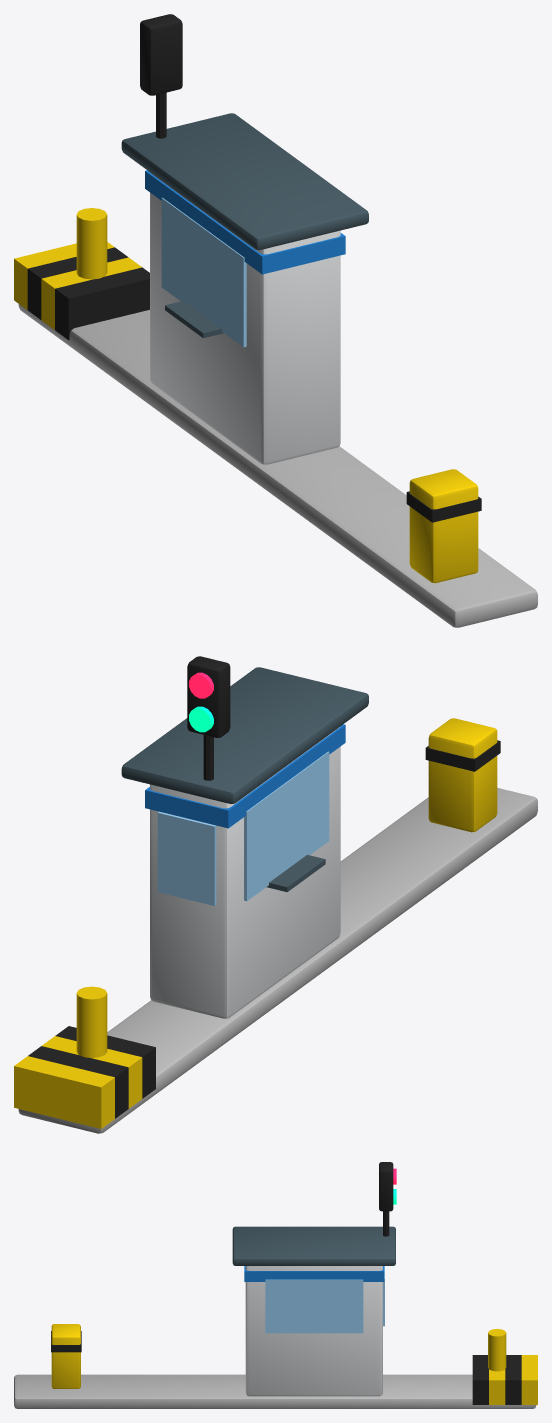
File: roadevents_toll_booth.glb
The picture shows the model from 3 angles, top to bottom: view 1: azimuth 30°, elevation 25°; view 2: azimuth 150°, elevation 25°; view 3: azimuth 270°, elevation 25°; orthographic projection. The views are drawn at different scales.
Parts seen in each view (by area): view 1: TollBooth; view 2: TollBooth; view 3: TollBooth.
Boxes of the visible parts, x1=… form: TollBooth: x1=14, y1=14, x2=537, y2=627; TollBooth: x1=14, y1=656, x2=537, y2=1133; TollBooth: x1=14, y1=1162, x2=537, y2=1408.
Size of the model in its own units: 1.25 by 3.8 by 8.03.
